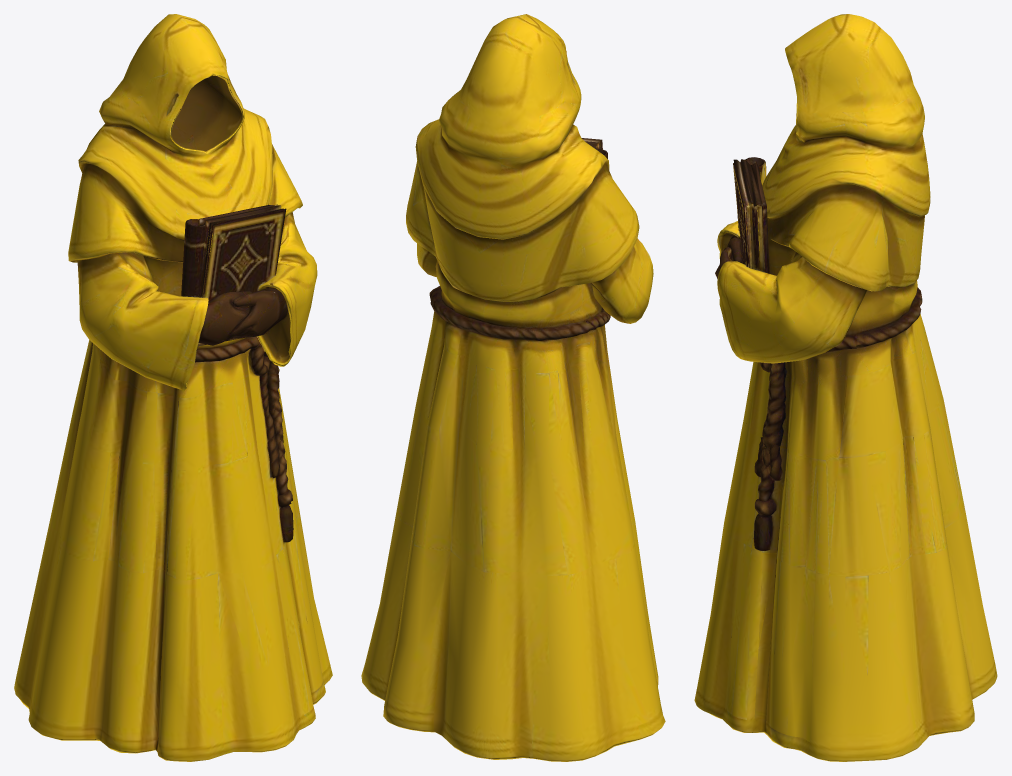
File: signore.glb
3 renders of one model, left to right at view 1: azimuth 30°, elevation 25°; view 2: azimuth 150°, elevation 25°; view 3: azimuth 270°, elevation 25°, orthographic.
Bounding box in the file's own units: 0.416 × 0.9507 × 0.3843.
1 material, 1 textured.
